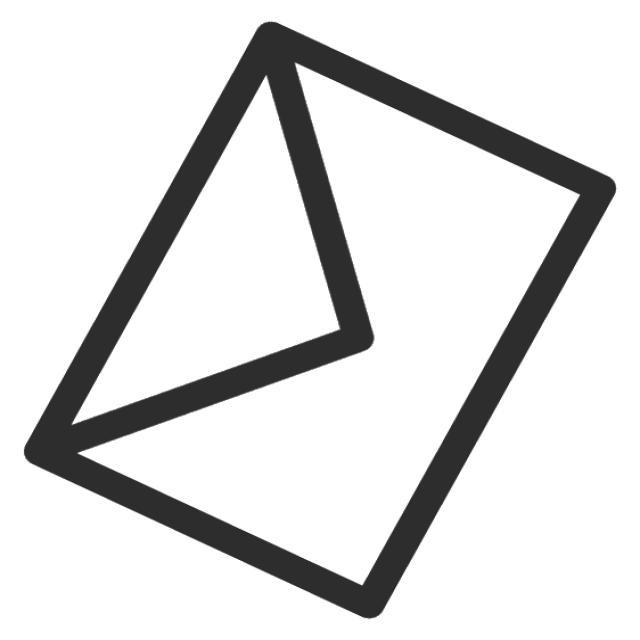letter: (20, 15, 630, 623)
